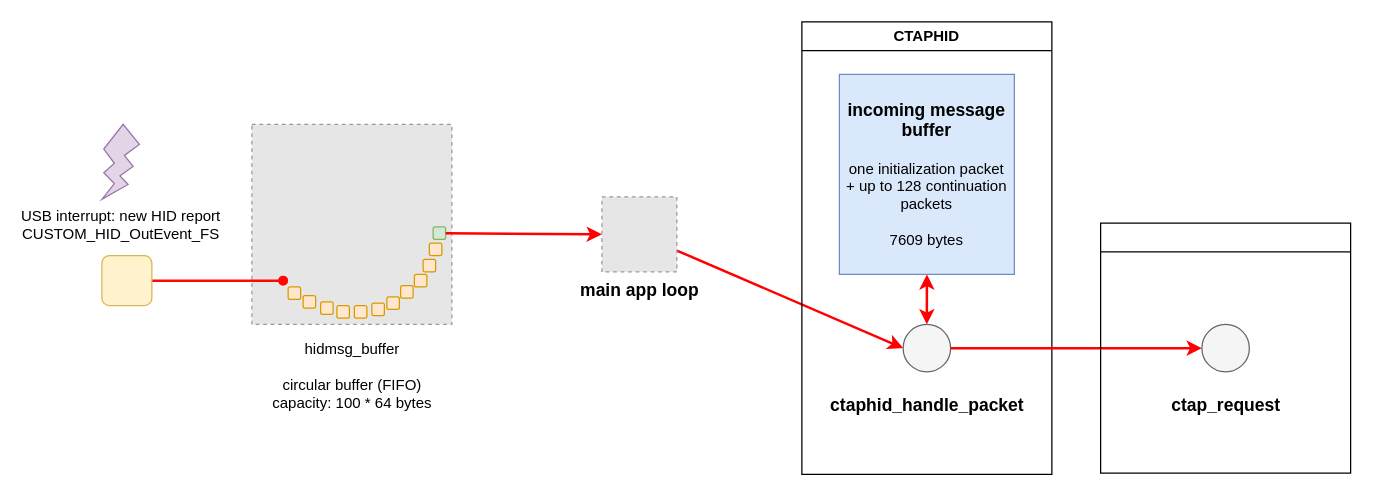
Some shapes in this 1373 by 496 pixel diagram are drawn without their labels. Grey dashed boxes stand in for pictures. Each missing label, with the box of its shape:
CTAP2: (1099, 222, 1351, 473)
HID report: (101, 254, 152, 306)
